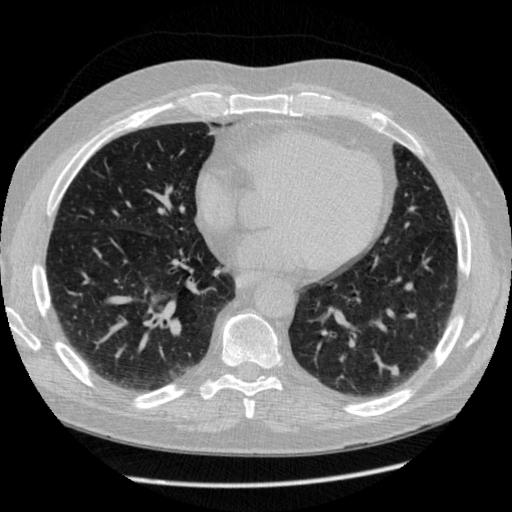nodule: (388, 364, 402, 378)
